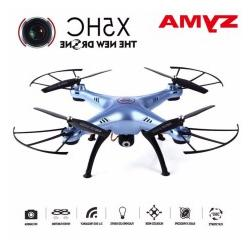drone: (12, 66, 240, 178)
